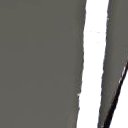crackTip: (96, 1, 128, 128)
